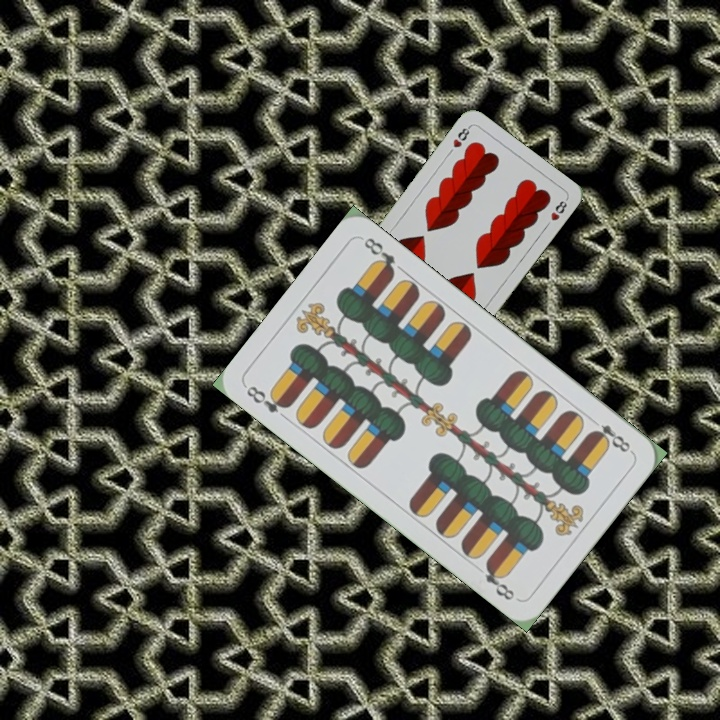E8: (242, 381, 293, 416), (586, 420, 635, 456)
H8: (449, 122, 473, 150)
